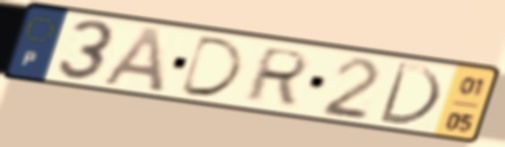2: (320, 55, 383, 122)
3: (54, 19, 119, 83)
A: (97, 24, 168, 95)
D: (175, 33, 248, 100), (375, 59, 444, 129)
R: (239, 45, 314, 107)
